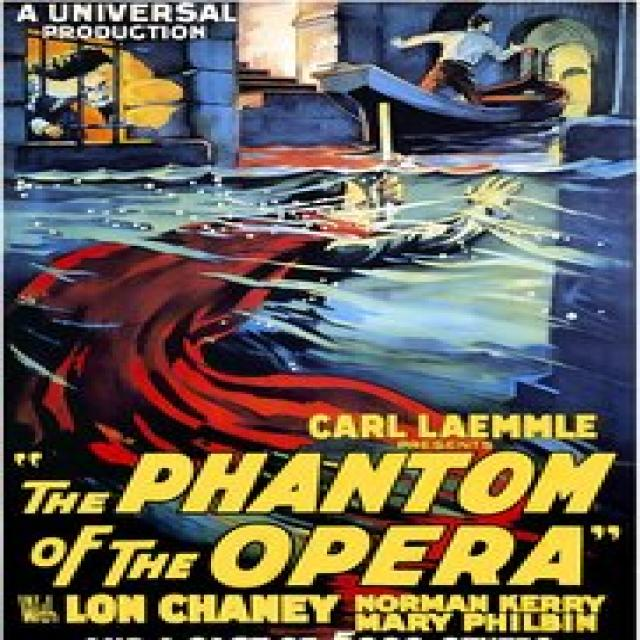movie-judul: (11, 406, 634, 639)
picture: (2, 0, 640, 636)
